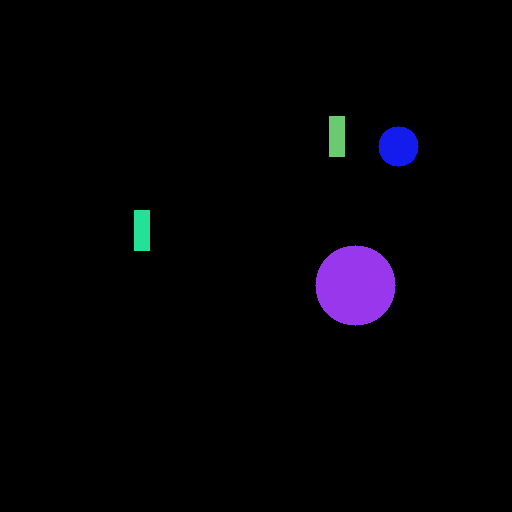circle: (309, 233, 398, 333), (372, 123, 422, 173)
up_rect: (126, 206, 155, 255), (326, 112, 349, 162)
